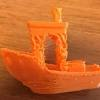Fail: (2, 6, 100, 95)
